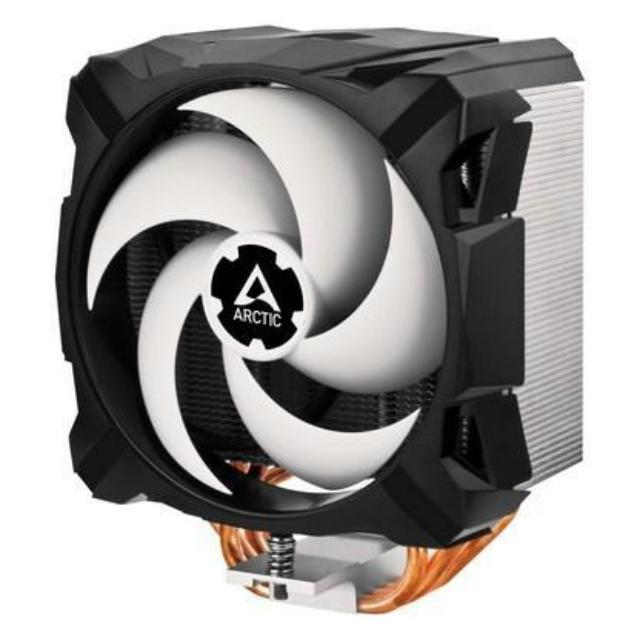CPU_Fan: (41, 20, 614, 618)
